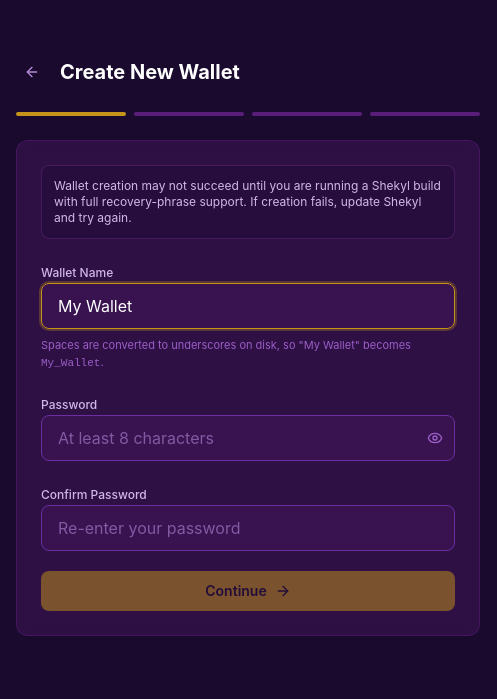
Test: CreateWallet seed clipboard mitigation › asks Rust to clear when the page is left without copying
Type "correct horse battery" into the password field with placeholder "At least 8 characters" at (248, 438), box [41,415,455,461]
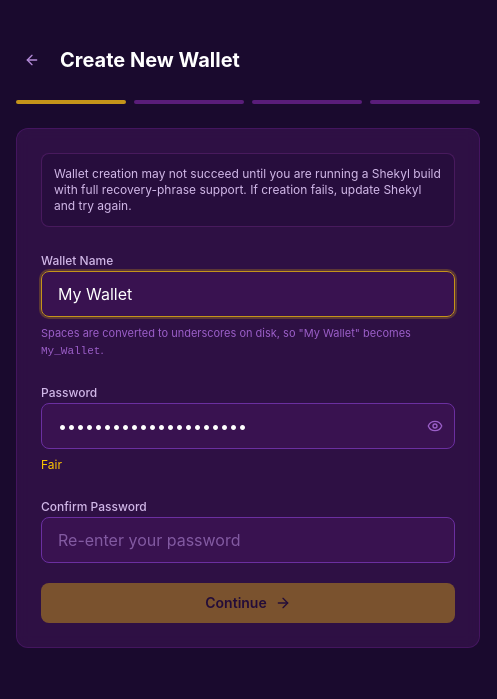
Type "correct horse battery" into the password field with placeholder "Re-enter your password" at (248, 540), box [41,517,455,563]
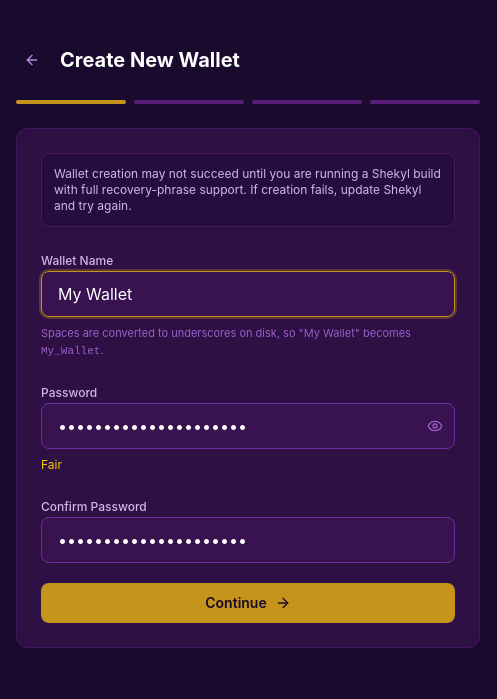
Click the button "Continue" at (248, 603), box [41,583,455,623]
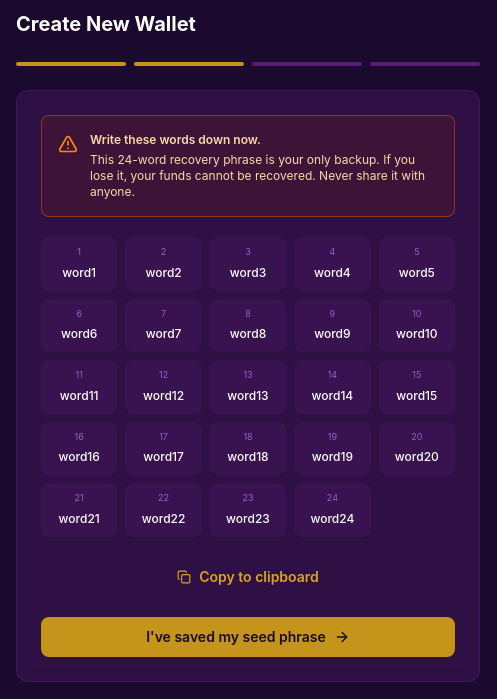
Now the button "Copy to clipboard" is shown, box [41,557,455,597]
